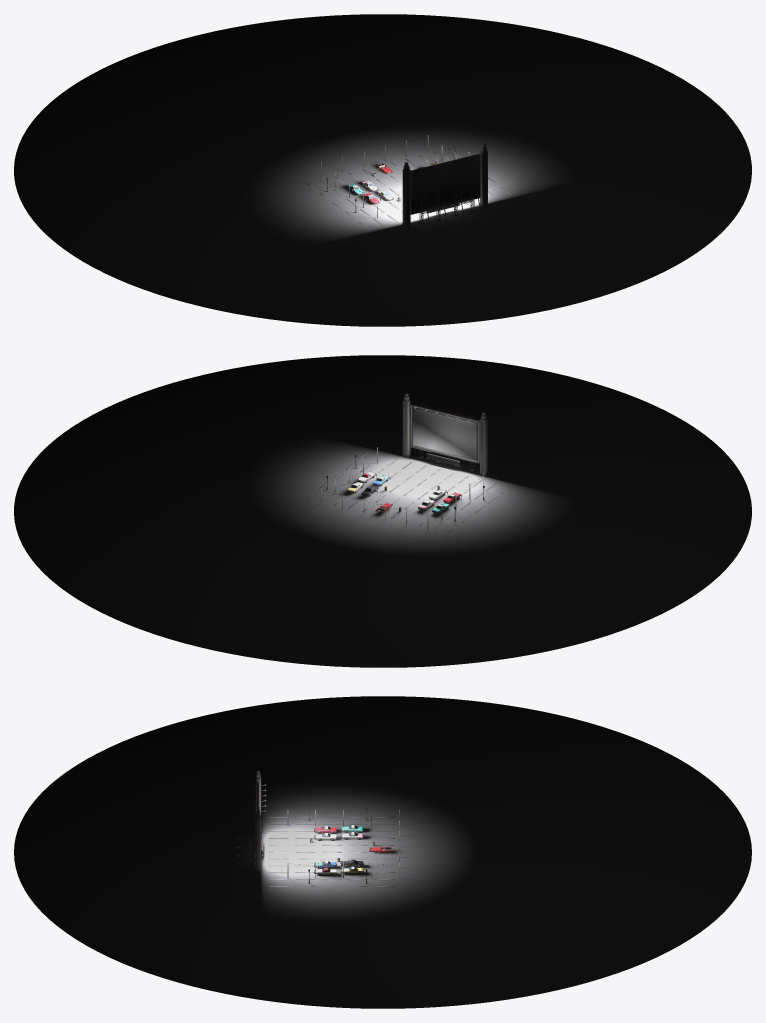
The model's file is drivein_glow.glb.
3 renders of one model, top to bottom at view 1: azimuth 30°, elevation 25°; view 2: azimuth 150°, elevation 25°; view 3: azimuth 270°, elevation 25°, orthographic.
Parts seen in each view (by area): view 1: drivein; view 2: drivein, drivein_cars; view 3: drivein, drivein_cars.
Part boxes in pixels (x1,y1,x2,y2): drivein: (14, 14, 751, 326); drivein: (14, 355, 751, 667); drivein_cars: (347, 471, 461, 513); drivein: (14, 696, 751, 1008); drivein_cars: (314, 825, 363, 875).
Size of the model in its own units: 180 by 16.96 by 180.
4 materials, 4 textured.
